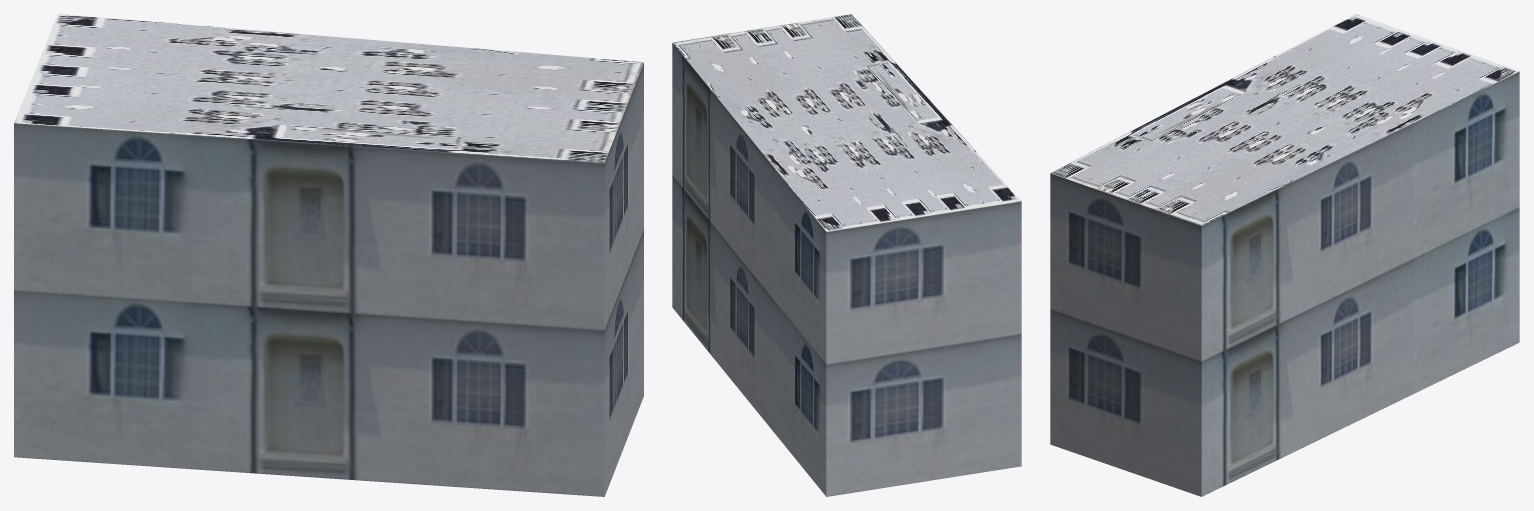
The model's file is ResTex__2328.fbx.
3 renders of one model, left to right at view 1: azimuth 30°, elevation 25°; view 2: azimuth 150°, elevation 25°; view 3: azimuth 270°, elevation 25°, orthographic. The views are drawn at different scales.
Visible parts, largest first — view 1: CityEngineMaterial_17_m, CityEngineMaterial_4_m; view 2: CityEngineMaterial_17_m, CityEngineMaterial_4_m; view 3: CityEngineMaterial_17_m, CityEngineMaterial_4_m.
Part boxes in pixels (bbox=[...]): CityEngineMaterial_17_m: bbox=[14, 63, 643, 496]; CityEngineMaterial_4_m: bbox=[14, 14, 643, 162]; CityEngineMaterial_17_m: bbox=[672, 43, 1021, 496]; CityEngineMaterial_4_m: bbox=[672, 14, 1020, 231]; CityEngineMaterial_17_m: bbox=[1050, 71, 1519, 496]; CityEngineMaterial_4_m: bbox=[1050, 14, 1519, 225].
Bounding box in the file's own units: 10.05 × 6 × 9.42.
2 materials, 2 textured.
